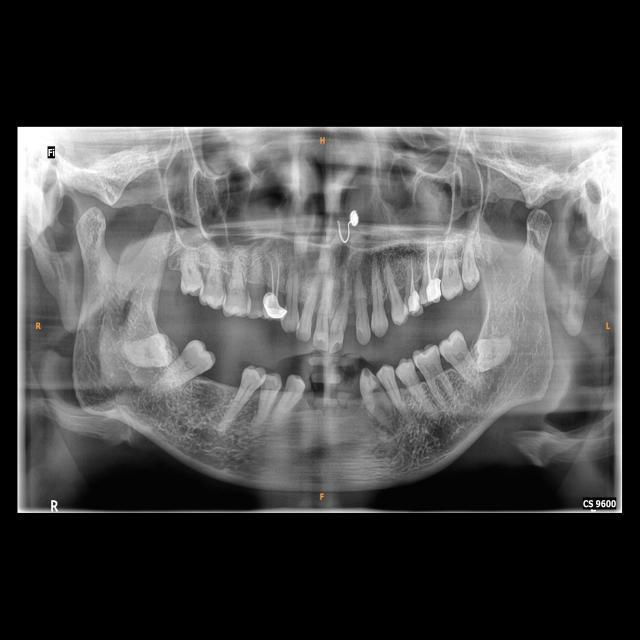dolgu: (422, 274, 444, 302), (403, 288, 423, 315)
kanal-tedavisi: (262, 249, 283, 297), (422, 238, 442, 280), (404, 250, 417, 290)
kaplama: (262, 292, 286, 321)
